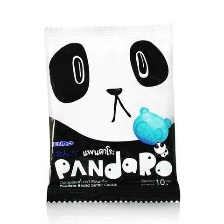snack: (29, 16, 188, 210)
